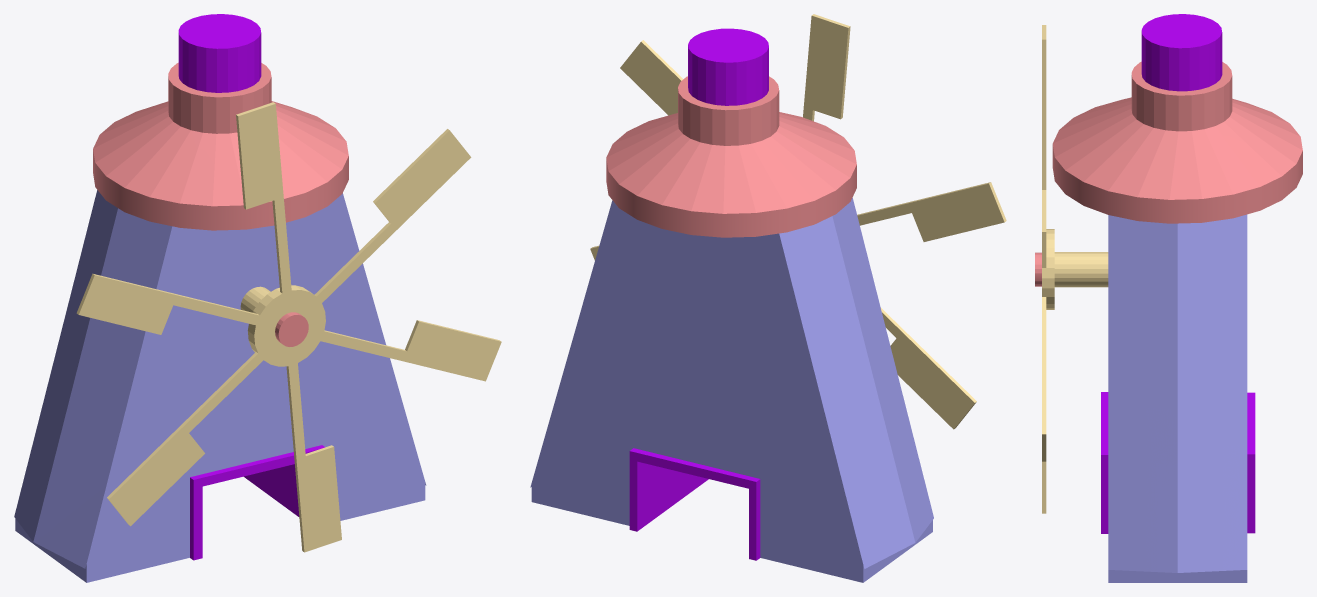
The model's file is windmill-golf.fbx.
The picture shows the model from 3 angles, left to right: view 1: azimuth 30°, elevation 25°; view 2: azimuth 150°, elevation 25°; view 3: azimuth 270°, elevation 25°; orthographic projection. The views are drawn at different scales.
Parts seen in each view (by area): view 1: ID28.001, ID5.001, ID36.001, ID56.001, ID42.001, ID19.001; view 2: ID28.001, ID36.001, ID5.001, ID56.001, ID42.001; view 3: ID28.001, ID36.001, ID56.001, ID5.001, ID42.001, ID13.001.
Boxes of the visible parts, x1=… form: ID28.001: x1=14, y1=190, x2=426, y2=582; ID5.001: x1=76, y1=102, x2=501, y2=552; ID36.001: x1=93, y1=62, x2=348, y2=230; ID56.001: x1=178, y1=14, x2=261, y2=92; ID42.001: x1=190, y1=445, x2=324, y2=560; ID19.001: x1=275, y1=312, x2=308, y2=346; ID28.001: x1=530, y1=198, x2=933, y2=582; ID36.001: x1=606, y1=76, x2=856, y2=237; ID5.001: x1=590, y1=14, x2=1006, y2=429; ID56.001: x1=688, y1=28, x2=768, y2=105; ID42.001: x1=629, y1=448, x2=760, y2=560; ID28.001: x1=1108, y1=214, x2=1247, y2=582; ID36.001: x1=1052, y1=61, x2=1302, y2=223; ID56.001: x1=1141, y1=14, x2=1222, y2=91; ID5.001: x1=1042, y1=25, x2=1054, y2=513; ID42.001: x1=1101, y1=392, x2=1255, y2=533; ID13.001: x1=1054, y1=252, x2=1108, y2=287.
Size of the model in its own units: 5675 by 6183 by 3180.
